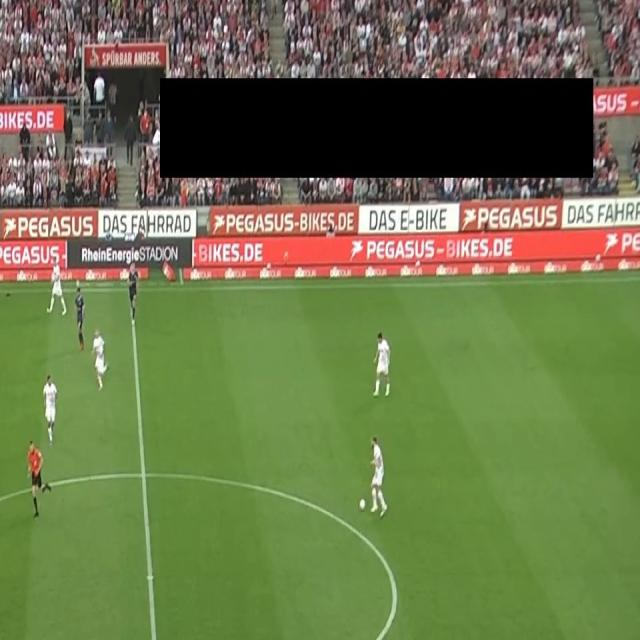ball: (358, 497, 366, 511)
